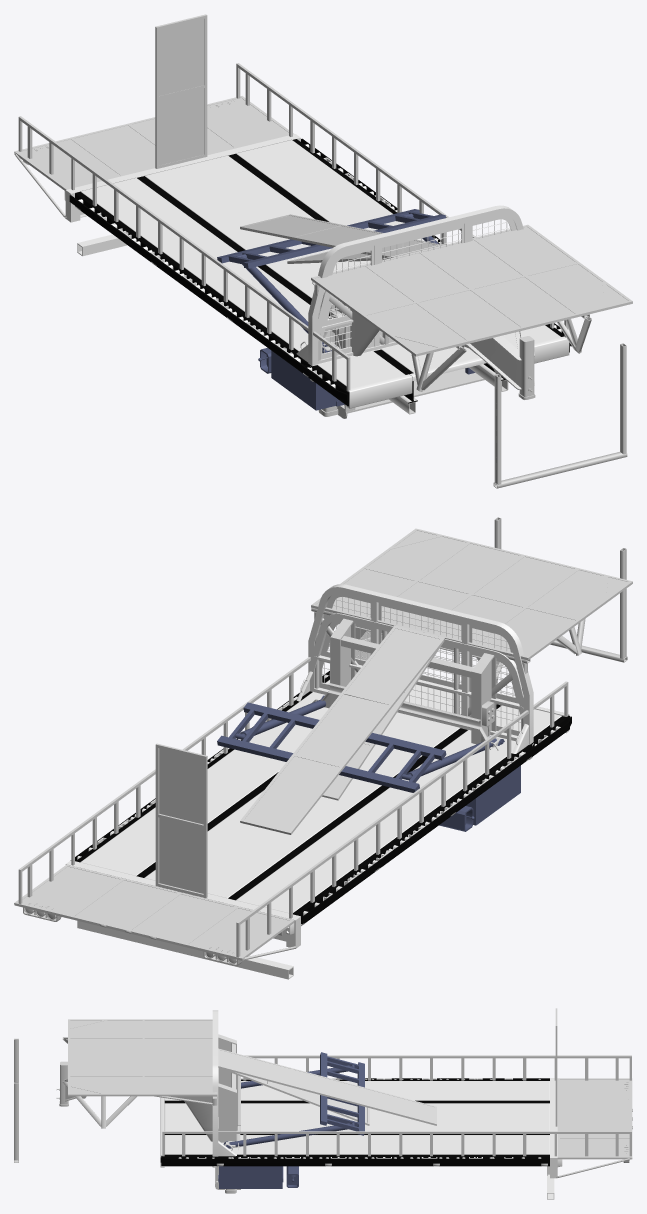
The model's file is G_pickup_semi_flatbed 39.dae.
The picture shows the model from 3 angles, top to bottom: view 1: azimuth 30°, elevation 25°; view 2: azimuth 150°, elevation 25°; view 3: azimuth 270°, elevation 25°; orthographic projection. The views are drawn at different scales.
Visible parts, largest first — view 1: G_pickup_semi_flatbed_aux, G_pickup_semi_flatbed, G_pickup_semi_flatbed_roof_ext, G_pickup_semi_flatbed_extension, G_pickup_semi_flatbed_roof_aux, G_pickup_semi_flatbed_ramp, G_pickup_tiltdeck_gooseneck, G_pickup_semi_flatbed_headboard_high, G_pickup_semi_flatbed_rails, G_pickup_semi_flatbed_roof, G_pickup_semi_flatbed_roof_ramp_long, G_pickup_semi_flatbed_roof_legs_4 (+9 smaller); view 2: G_pickup_semi_flatbed_aux, G_pickup_semi_flatbed, G_pickup_semi_flatbed_roof_ramp_long, G_pickup_semi_flatbed_extension, G_pickup_semi_flatbed_roof_ext, G_pickup_semi_flatbed_ramp, G_pickup_semi_flatbed_headboard_high, G_pickup_tiltdeck_gooseneck, G_pickup_semi_flatbed_rails, G_pickup_semi_flatbed_headboard_low, G_pickup_semi_flatbed_roof_aux, G_pickup_semi_flatbed_roof (+10 smaller); view 3: G_pickup_semi_flatbed_aux, G_pickup_semi_flatbed_extension, G_pickup_semi_flatbed, G_pickup_semi_flatbed_roof_ext, G_pickup_semi_flatbed_roof_ramp_long, G_pickup_semi_flatbed_roof_aux, G_pickup_semi_flatbed_rails, G_pickup_tiltdeck_gooseneck, G_pickup_semi_flatbed_roof, G_pickup_semi_flatbed_hydro_frame, G_pickup_semi_flatbed_toolbox_L, G_pickup_semi_flatbed_roof_ramp (+8 smaller).
Part boxes in pixels (box(x1,y1,x2,y2)): G_pickup_semi_flatbed_aux: box(69, 139, 571, 408); G_pickup_semi_flatbed: box(69, 138, 439, 381); G_pickup_semi_flatbed_roof_ext: box(363, 263, 632, 356); G_pickup_semi_flatbed_extension: box(14, 96, 293, 190); G_pickup_semi_flatbed_roof_aux: box(311, 224, 564, 306); G_pickup_semi_flatbed_ramp: box(155, 14, 207, 168); G_pickup_tiltdeck_gooseneck: box(318, 300, 535, 418); G_pickup_semi_flatbed_headboard_high: box(308, 205, 523, 365); G_pickup_semi_flatbed_rails: box(71, 101, 475, 350); G_pickup_semi_flatbed_roof: box(311, 226, 579, 317); G_pickup_semi_flatbed_roof_ramp_long: box(240, 214, 441, 257); G_pickup_semi_flatbed_roof_legs_4: box(493, 343, 627, 488); G_pickup_semi_flatbed_aux: box(75, 671, 571, 923); G_pickup_semi_flatbed: box(75, 691, 534, 923); G_pickup_semi_flatbed_roof_ramp_long: box(240, 628, 444, 834); G_pickup_semi_flatbed_extension: box(14, 864, 294, 960); G_pickup_semi_flatbed_roof_ext: box(364, 528, 632, 621); G_pickup_semi_flatbed_ramp: box(155, 743, 207, 898); G_pickup_semi_flatbed_headboard_high: box(308, 584, 533, 744); G_pickup_tiltdeck_gooseneck: box(312, 618, 503, 750); G_pickup_semi_flatbed_rails: box(71, 657, 528, 918); G_pickup_semi_flatbed_headboard_low: box(296, 613, 529, 753); G_pickup_semi_flatbed_roof_aux: box(311, 578, 564, 659); G_pickup_semi_flatbed_roof: box(311, 567, 580, 660); G_pickup_semi_flatbed_aux: box(160, 1078, 549, 1167); G_pickup_semi_flatbed_extension: box(557, 1078, 632, 1159); G_pickup_semi_flatbed: box(212, 1078, 549, 1167); G_pickup_semi_flatbed_roof_ext: box(68, 1019, 142, 1096); G_pickup_semi_flatbed_roof_ramp_long: box(218, 1049, 436, 1125); G_pickup_semi_flatbed_roof_aux: box(165, 1019, 217, 1096); G_pickup_semi_flatbed_rails: box(218, 1055, 556, 1156); G_pickup_tiltdeck_gooseneck: box(56, 1034, 240, 1193); G_pickup_semi_flatbed_roof: box(142, 1019, 216, 1096); G_pickup_semi_flatbed_hydro_frame: box(320, 1052, 364, 1135); G_pickup_semi_flatbed_toolbox_L: box(218, 1166, 283, 1188); G_pickup_semi_flatbed_roof_ramp: box(218, 1048, 369, 1125).
Bounding box in the file's own units: 2.57 × 8.3 × 2.17.
